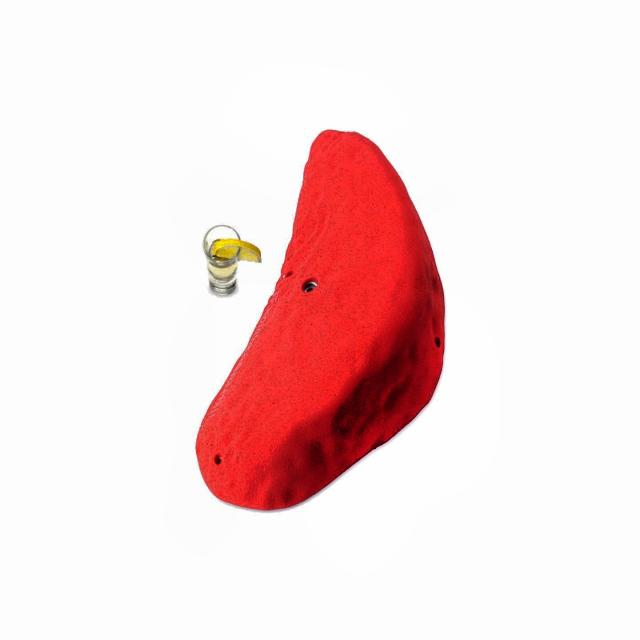Hold: (186, 120, 454, 524)
